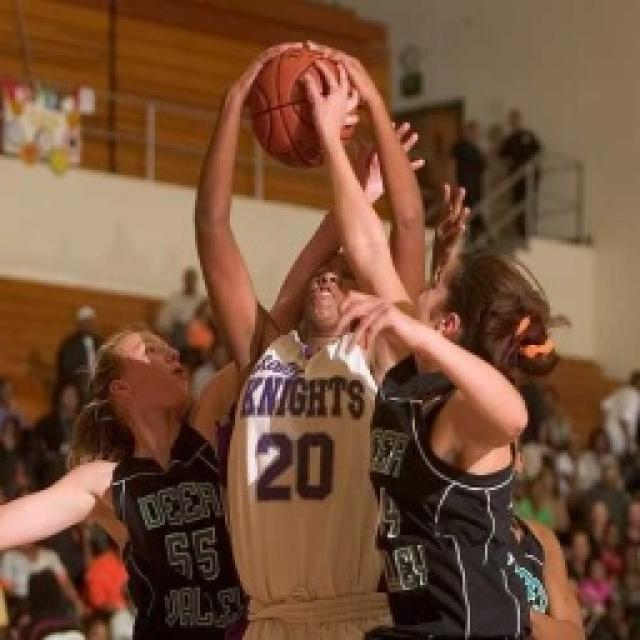rim: (245, 40, 366, 170)
